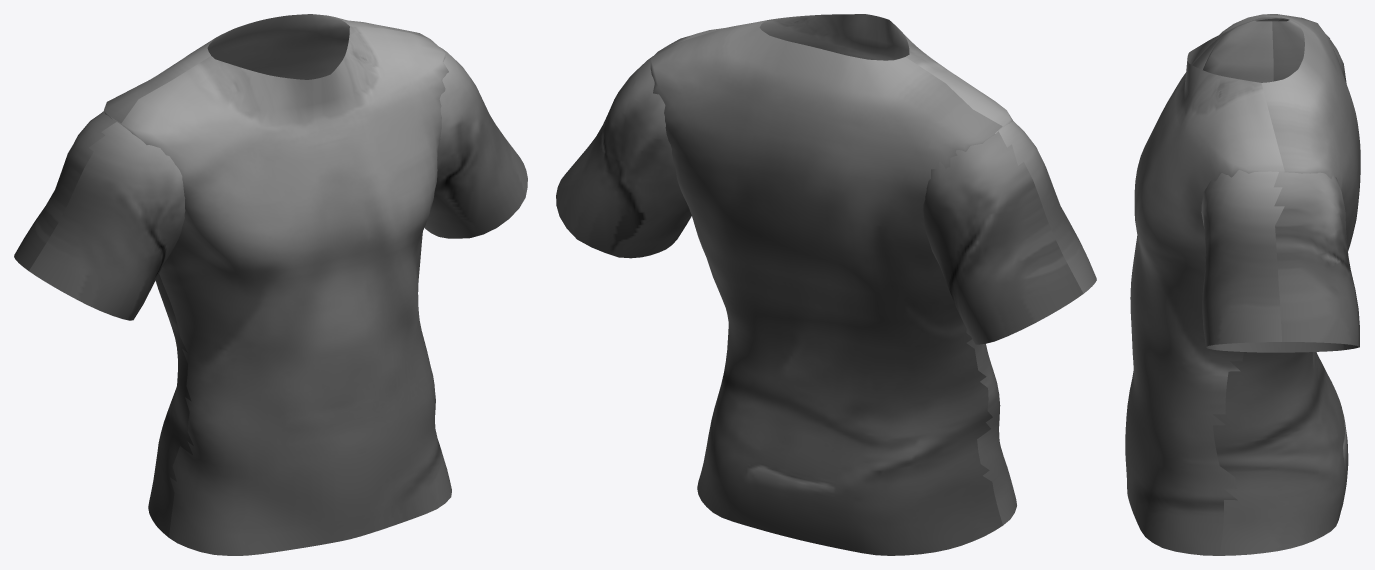
File: garment.glb
The picture shows the model from 3 angles, left to right: view 1: azimuth 30°, elevation 25°; view 2: azimuth 150°, elevation 25°; view 3: azimuth 270°, elevation 25°; orthographic projection. The views are drawn at different scales.
Parts seen in each view (by area): view 1: garment.tshirt; view 2: garment.tshirt; view 3: garment.tshirt.
Boxes of the visible parts, x1=… form: garment.tshirt: x1=14, y1=14, x2=527, y2=555; garment.tshirt: x1=556, y1=14, x2=1096, y2=555; garment.tshirt: x1=1125, y1=14, x2=1360, y2=555.
Size of the model in its own units: 0.7286 by 0.648 by 0.3097.
1 material, 1 textured.
